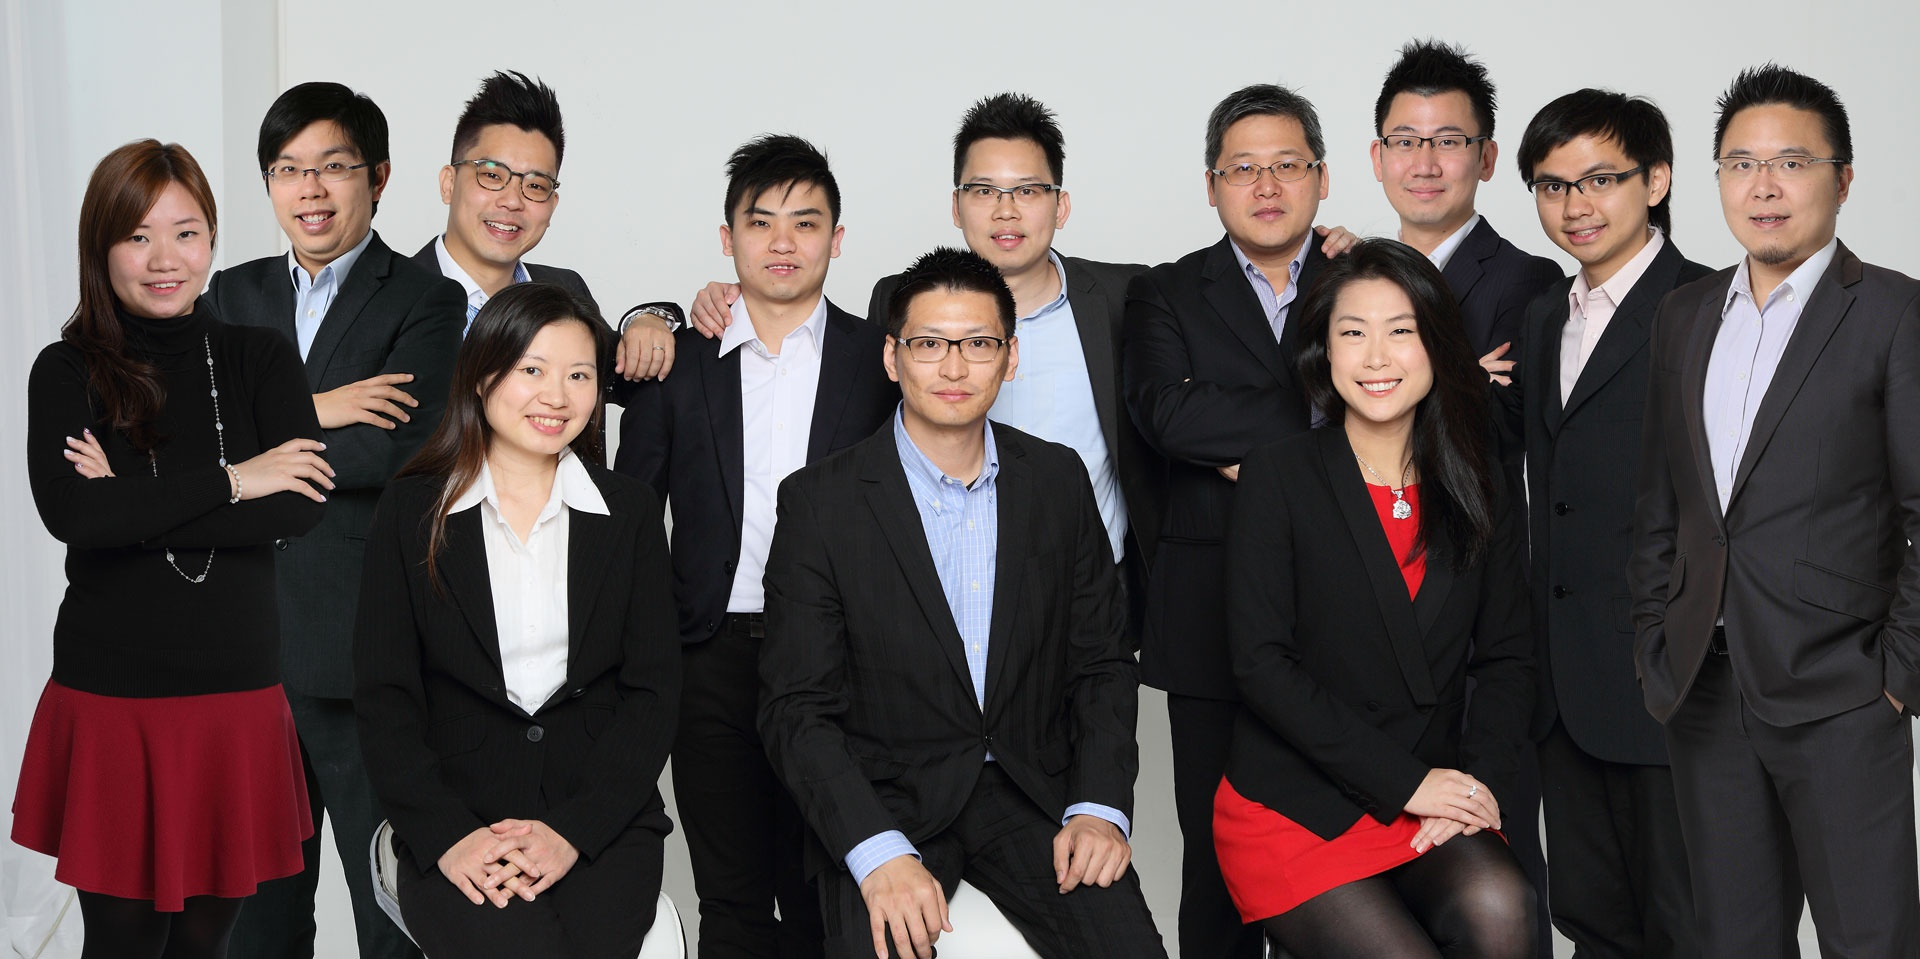bad: (1701, 125, 1829, 254), (1213, 140, 1322, 247), (902, 318, 1011, 426), (724, 198, 831, 307), (951, 163, 1059, 271), (462, 140, 569, 247), (1369, 116, 1477, 223), (1524, 152, 1632, 258), (497, 343, 605, 449), (260, 140, 366, 247), (1322, 307, 1429, 414), (116, 216, 204, 305)
